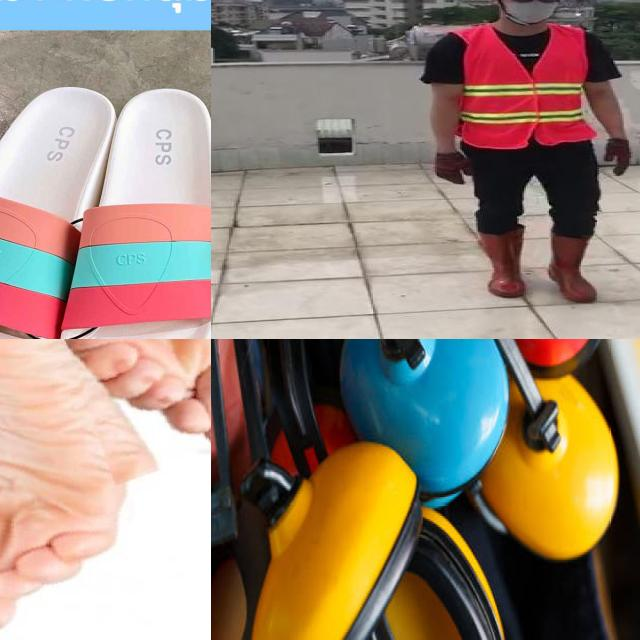Barefoots: (0, 339, 146, 632), (53, 339, 211, 450)
Ear-protection: (250, 339, 426, 640), (338, 339, 510, 508), (486, 361, 620, 562), (375, 503, 506, 640), (211, 339, 270, 640)
Sandals: (0, 47, 211, 339)
boots: (542, 232, 604, 301), (476, 229, 528, 298)
person: (426, 0, 640, 309)
vest: (456, 24, 592, 145)
